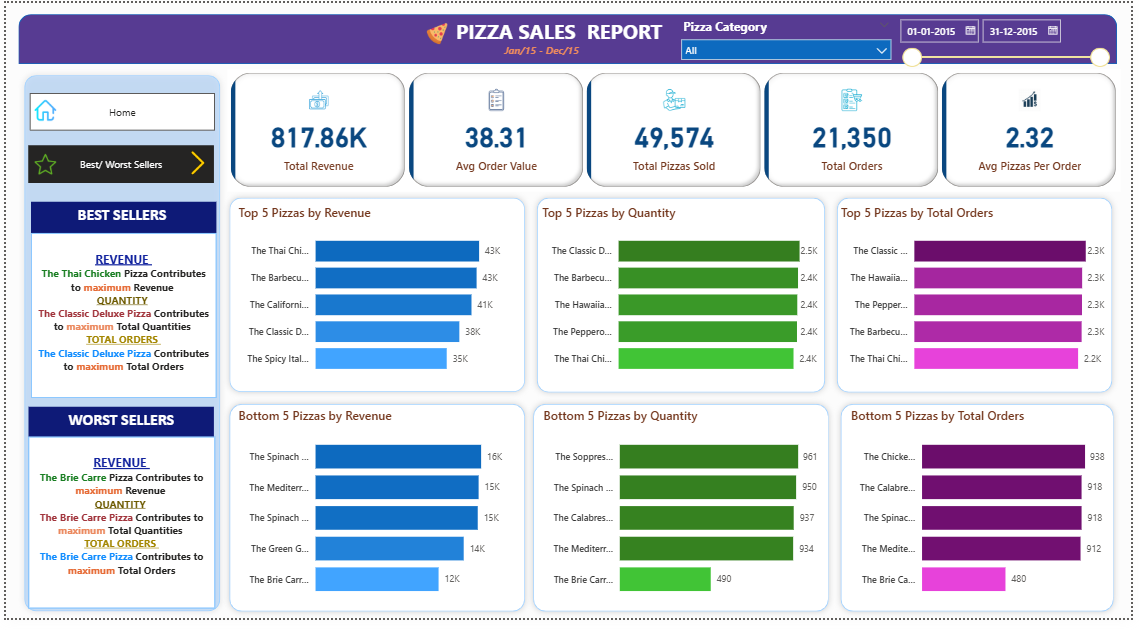

Layout of this report page (visuals, bound fields, positions):
{"tool":"powerbi","page":{"name":"Best/ Worst Sellers","canvas":[1500,820],"ordinal":1},"visuals":[{"type":"shape","box":[17.1,88.6,277.1,731.4],"z":0},{"type":"cardVisual","fields":{"Data":["pizza_sales.Total Revenue","pizza_sales.Avg Order Value","pizza_sales.Total Pizzas Sold","pizza_sales.Total Orders","pizza_sales.Avg Pizzas Per Order"]},"box":[294.3,88.6,1191.4,162.9],"z":1000},{"type":"shape","box":[16.7,15,1465,66.7],"z":2000},{"type":"textbox","box":[575,15,325,51.7],"z":3000},{"type":"textbox","box":[648.3,48.3,131.7,40],"z":4000},{"type":"image","box":[551.7,21.7,46.7,38.3],"z":5000},{"type":"shape","box":[290,252,410,275],"z":6000},{"type":"textbox","box":[32.9,265.7,247.1,41.4],"z":7000},{"type":"textbox","box":[32.9,307.1,247.1,220],"z":8000},{"type":"textbox","box":[30,538.6,247.1,40],"z":9000},{"type":"textbox","box":[30,578.6,248.6,228.6],"z":10000},{"type":"slicer","fields":{"Values":["pizza_sales.pizza_category"]},"box":[890,15.7,300,61.4],"z":11000},{"type":"slicer","fields":{"Values":["pizza_sales.order_date"]},"box":[1180,11.4,300,81.4],"z":12000},{"type":"shape","box":[1100,251.4,382.9,275.7],"z":13000},{"type":"shape","box":[700,251.4,400,275.7],"z":14000},{"type":"shape","box":[290,527.1,410,292.9],"z":15000},{"type":"shape","box":[695.7,527.1,410,292.9],"z":16000},{"type":"shape","box":[1105.7,527.1,380,292.9],"z":17000},{"type":"barChart","title":"Top 5 Pizzas by Revenue","fields":{"Category":["pizza_sales.pizza_name"],"Y":["pizza_sales.Total Revenue"]},"box":[305.7,268.6,380,240],"z":18000},{"type":"barChart","title":"Bottom 5 Pizzas by Revenue","fields":{"Category":["pizza_sales.pizza_name"],"Y":["pizza_sales.Total Revenue"]},"box":[305.7,538.6,380,268.6],"z":19000},{"type":"barChart","title":"Top 5 Pizzas by Quantity","fields":{"Category":["pizza_sales.pizza_name"],"Y":["pizza_sales.Total Pizzas Sold"]},"box":[710,268.6,377.1,240],"z":20000},{"type":"barChart","title":"Bottom 5 Pizzas by Quantity","fields":{"Category":["pizza_sales.pizza_name"],"Y":["pizza_sales.Total Pizzas Sold"]},"box":[711.4,538.6,375.7,268.6],"z":21000},{"type":"barChart","title":"Top 5 Pizzas by Total Orders","fields":{"Category":["pizza_sales.pizza_name"],"Y":["pizza_sales.Total Orders"]},"box":[1108.6,268.6,361.4,240],"z":22000},{"type":"barChart","title":"Bottom 5 Pizzas by Total Orders","fields":{"Category":["pizza_sales.pizza_name"],"Y":["pizza_sales.Total Orders"]},"box":[1121.4,538.6,348.6,268.6],"z":23000},{"type":"pageNavigator","box":[30,190,247.1,50],"z":23001},{"type":"pageNavigator","box":[31.4,120,247.1,50],"z":23002},{"type":"image","box":[235.7,190,41.4,45.7],"z":23003},{"type":"image","box":[32.9,120,38.6,45.7],"z":23004},{"type":"image","box":[32.9,195.7,38.6,40],"z":23005}]}

Visuals, with their boxes in screenshot pixels (x1, y1, x2, y2), scaled from the page's 1500x820 canvas onto the 1139x630 screenshot:
shape: [left=13, top=68, right=223, bottom=629]
cardVisual - pizza_sales.Total Revenue x pizza_sales.Avg Order Value: [left=223, top=68, right=1128, bottom=193]
shape: [left=13, top=12, right=1125, bottom=63]
textbox: [left=437, top=12, right=683, bottom=51]
textbox: [left=492, top=37, right=592, bottom=68]
image: [left=419, top=17, right=454, bottom=46]
shape: [left=220, top=194, right=532, bottom=405]
textbox: [left=25, top=204, right=213, bottom=236]
textbox: [left=25, top=236, right=213, bottom=405]
textbox: [left=23, top=414, right=210, bottom=445]
textbox: [left=23, top=445, right=212, bottom=620]
slicer - pizza_sales.pizza_category: [left=676, top=12, right=904, bottom=59]
slicer - pizza_sales.order_date: [left=896, top=9, right=1124, bottom=71]
shape: [left=835, top=193, right=1126, bottom=405]
shape: [left=532, top=193, right=835, bottom=405]
shape: [left=220, top=405, right=532, bottom=629]
shape: [left=528, top=405, right=840, bottom=629]
shape: [left=840, top=405, right=1128, bottom=629]
"Top 5 Pizzas by Revenue" barChart: [left=232, top=206, right=521, bottom=391]
"Bottom 5 Pizzas by Revenue" barChart: [left=232, top=414, right=521, bottom=620]
"Top 5 Pizzas by Quantity" barChart: [left=539, top=206, right=825, bottom=391]
"Bottom 5 Pizzas by Quantity" barChart: [left=540, top=414, right=825, bottom=620]
"Top 5 Pizzas by Total Orders" barChart: [left=842, top=206, right=1116, bottom=391]
"Bottom 5 Pizzas by Total Orders" barChart: [left=852, top=414, right=1116, bottom=620]
pageNavigator: [left=23, top=146, right=210, bottom=184]
pageNavigator: [left=24, top=92, right=211, bottom=131]
image: [left=179, top=146, right=210, bottom=181]
image: [left=25, top=92, right=54, bottom=127]
image: [left=25, top=150, right=54, bottom=181]
